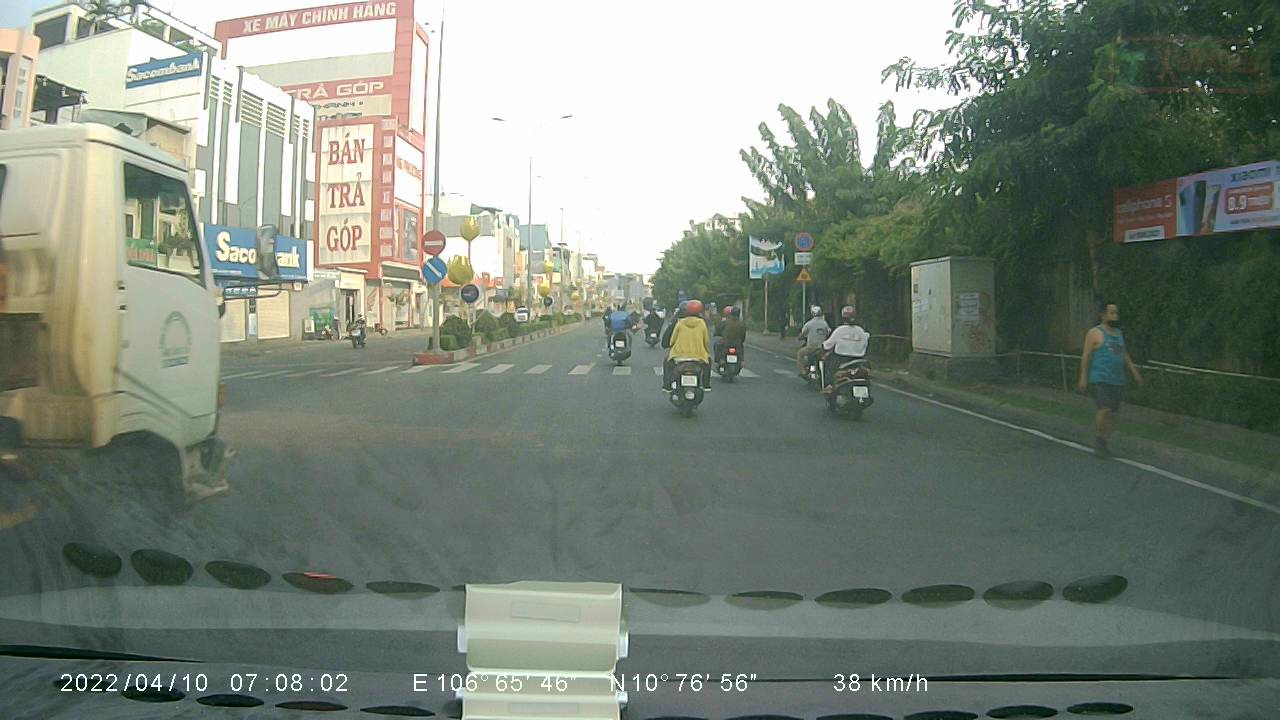Cam di nguoc chieu: (420, 226, 448, 259)
Huong di phai re phai: (417, 255, 448, 286)
